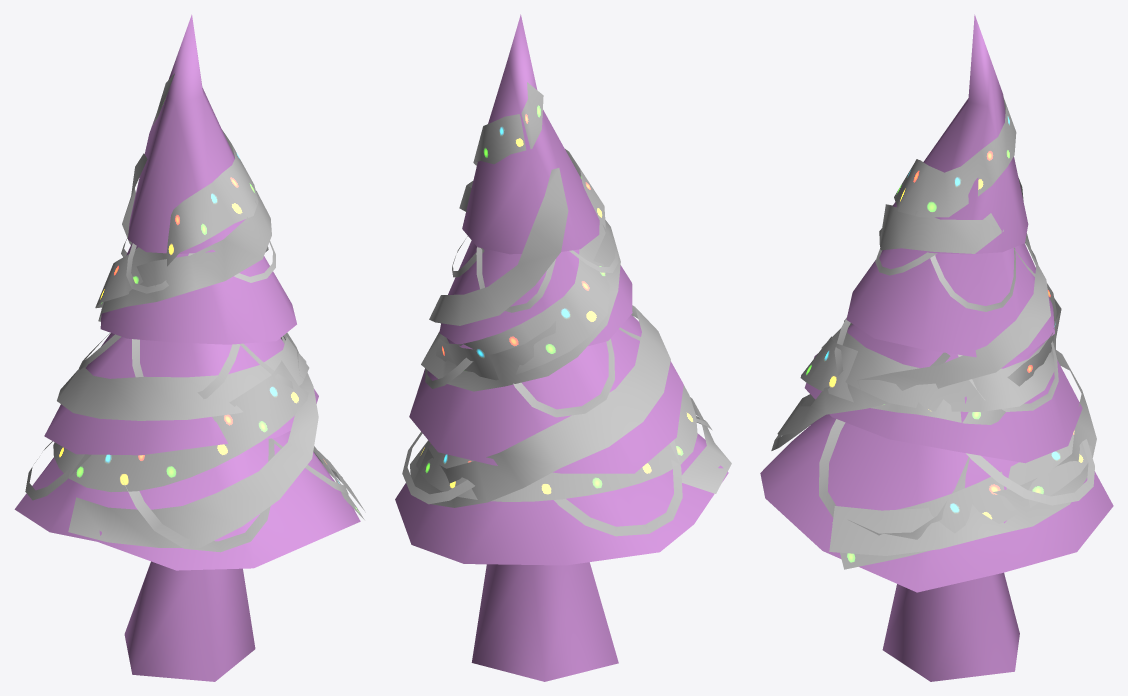
File: Tree_05.fbx
3 renders of one model, left to right at view 1: azimuth 30°, elevation 25°; view 2: azimuth 150°, elevation 25°; view 3: azimuth 270°, elevation 25°, orthographic. The views are drawn at different scales.
Visible parts, largest first — view 1: Tree_05; view 2: Tree_05; view 3: Tree_05.
Part boxes in pixels (<box>): Tree_05: <box>14,14,365,681</box>; Tree_05: <box>395,14,731,681</box>; Tree_05: <box>760,14,1113,681</box>.
Bounding box in the file's own units: 193 × 200 × 404.
